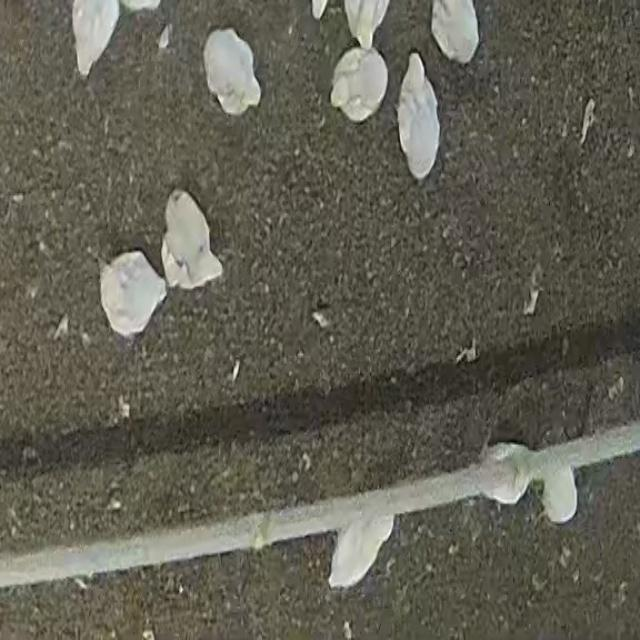chicken: (158, 188, 224, 293), (330, 483, 394, 588), (98, 250, 167, 336), (395, 52, 439, 181), (201, 28, 261, 118), (329, 44, 389, 122), (71, 0, 119, 76), (430, 0, 480, 64)
